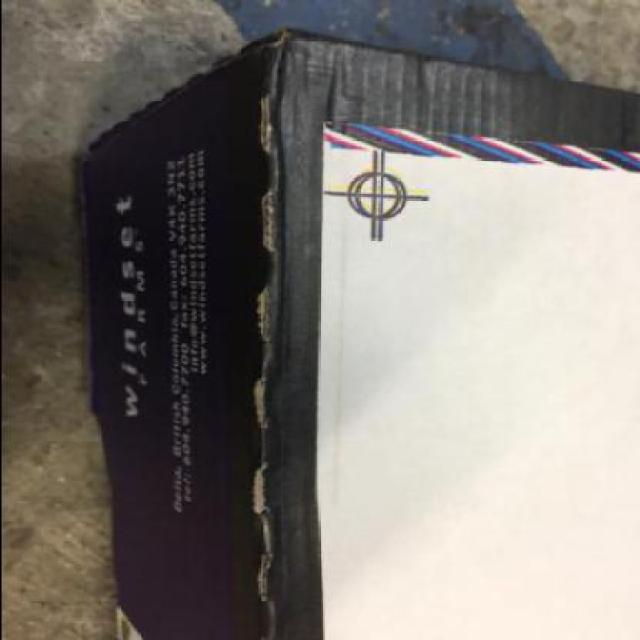CARDBOARD: (71, 26, 638, 639), (77, 26, 638, 639)
